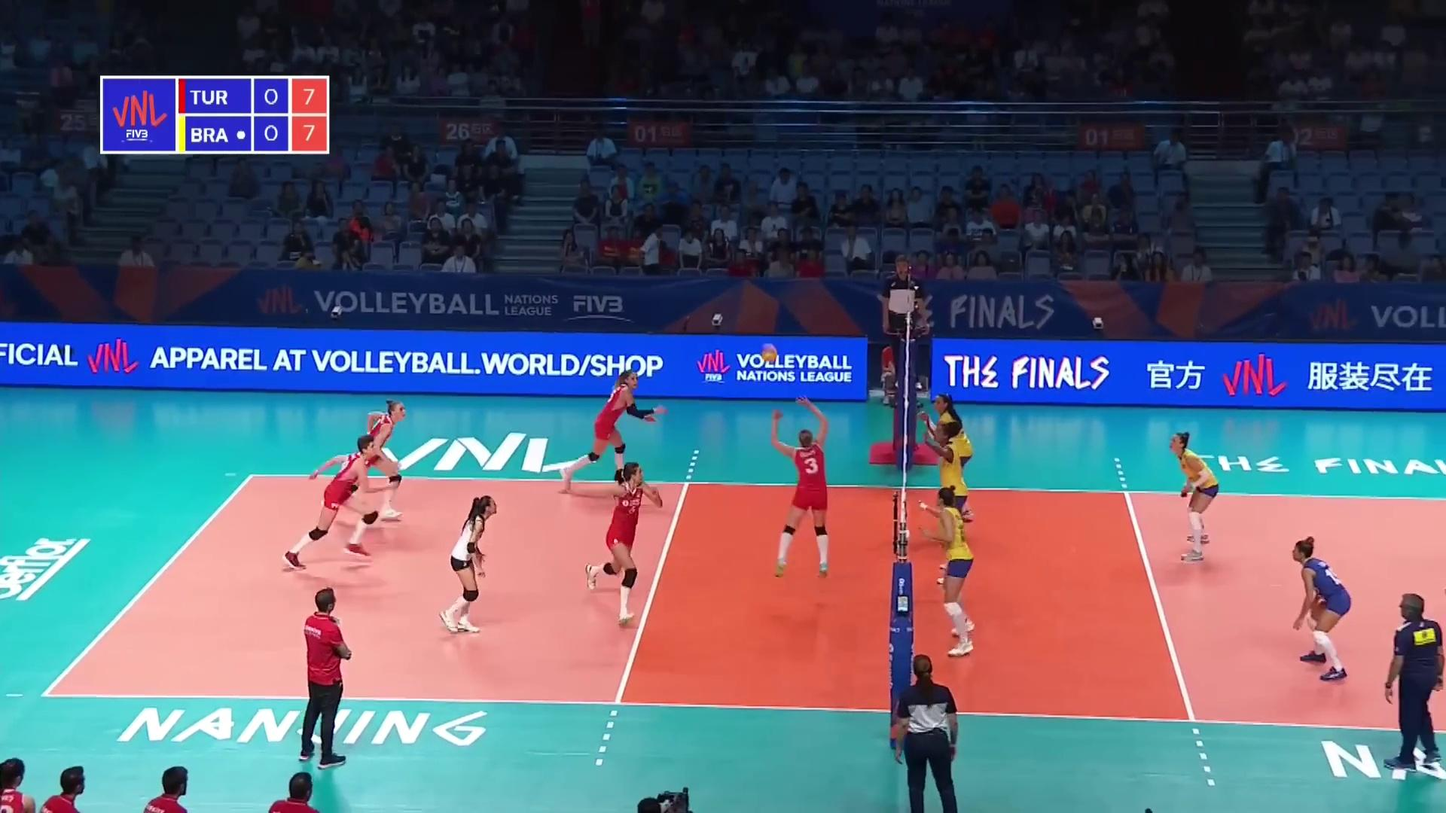player: (279, 436, 392, 575), (558, 367, 661, 505), (575, 465, 663, 623), (769, 402, 836, 574), (326, 401, 411, 521), (929, 488, 981, 653), (1291, 538, 1351, 680), (439, 498, 502, 633), (923, 420, 971, 585), (1170, 433, 1226, 564), (933, 396, 973, 520)
refree: (896, 649, 966, 812), (881, 258, 926, 394)
